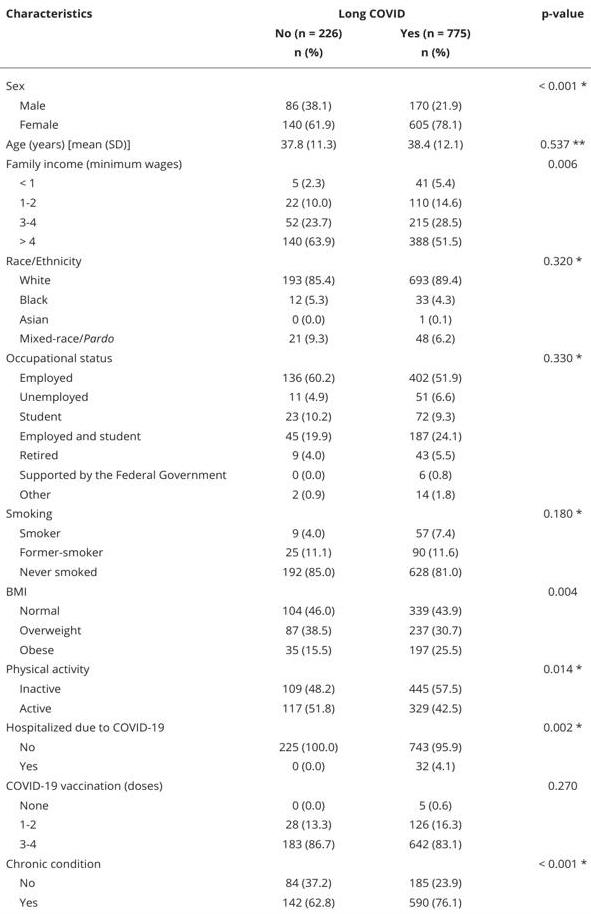table: (5, 5, 586, 909)
table column: (5, 5, 250, 909), (370, 5, 504, 909), (250, 5, 370, 909), (504, 5, 586, 909)
table column header: (5, 5, 586, 68)
table row: (5, 22, 586, 68), (5, 68, 586, 94), (5, 94, 586, 114), (5, 133, 586, 153), (5, 191, 586, 211), (5, 230, 586, 250), (5, 269, 586, 289), (5, 308, 586, 328), (5, 366, 586, 386), (5, 405, 586, 425), (5, 444, 586, 464), (5, 483, 586, 503), (5, 541, 586, 561), (5, 580, 586, 600), (5, 619, 586, 639), (5, 658, 586, 678), (5, 716, 586, 736), (5, 755, 586, 775), (5, 794, 586, 814), (5, 852, 586, 872), (5, 114, 586, 133), (5, 153, 586, 172), (5, 172, 586, 191), (5, 211, 586, 230), (5, 250, 586, 269), (5, 289, 586, 308), (5, 328, 586, 347), (5, 347, 586, 366), (5, 386, 586, 405), (5, 425, 586, 444), (5, 464, 586, 483), (5, 503, 586, 522), (5, 522, 586, 541), (5, 561, 586, 580), (5, 600, 586, 619), (5, 639, 586, 658), (5, 678, 586, 697), (5, 697, 586, 716), (5, 736, 586, 755), (5, 775, 586, 794), (5, 814, 586, 833), (5, 833, 586, 852), (5, 872, 586, 891), (5, 891, 586, 909), (5, 5, 586, 22)
table spanning cell: (5, 5, 250, 68), (504, 5, 586, 68), (250, 5, 504, 22)
